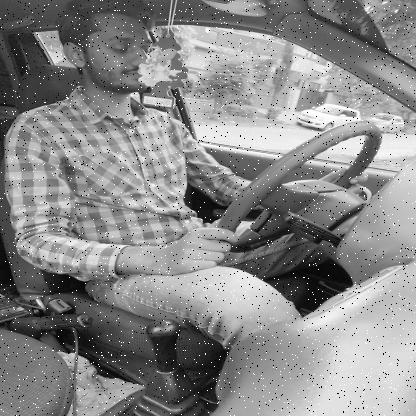no_seatbelt: (57, 14, 210, 216)
